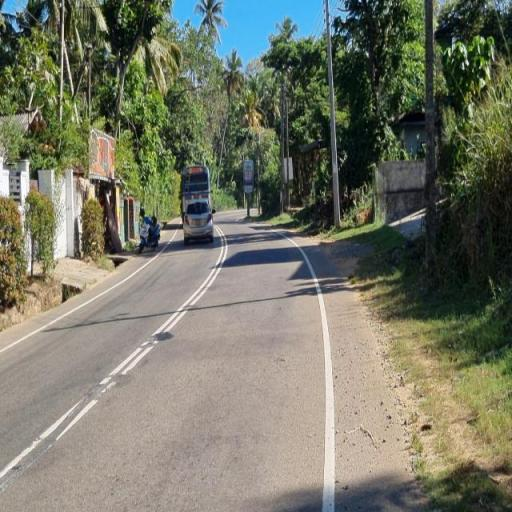double_white_line: (94, 226, 231, 395)
